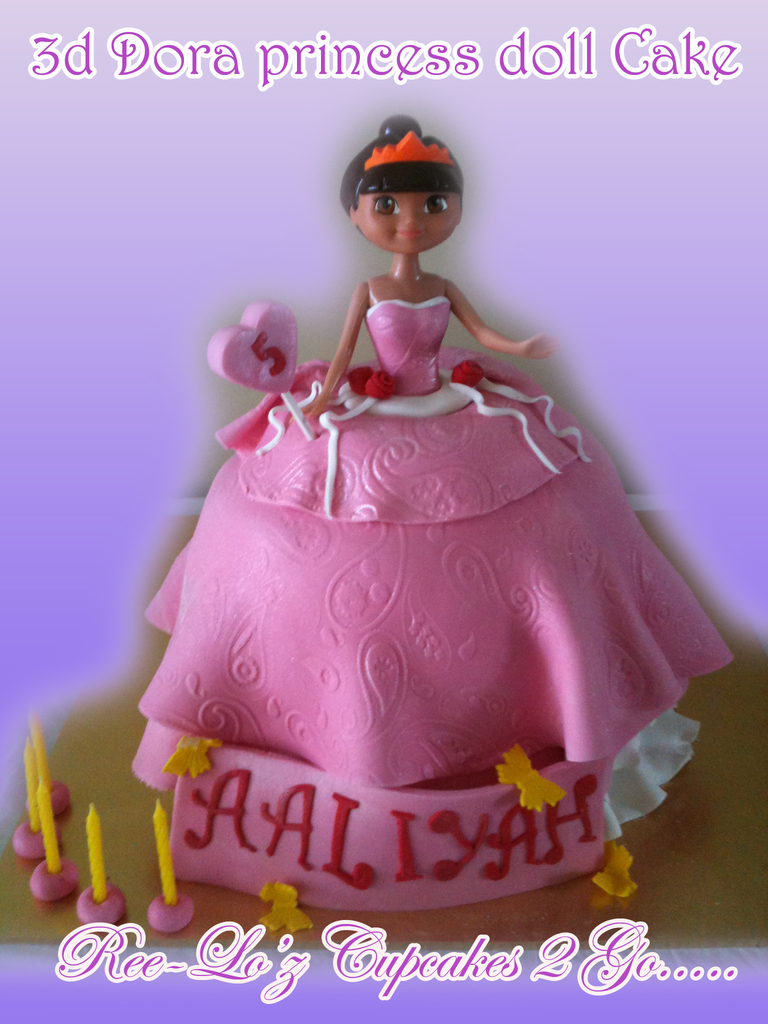cake: (132, 113, 739, 911)
